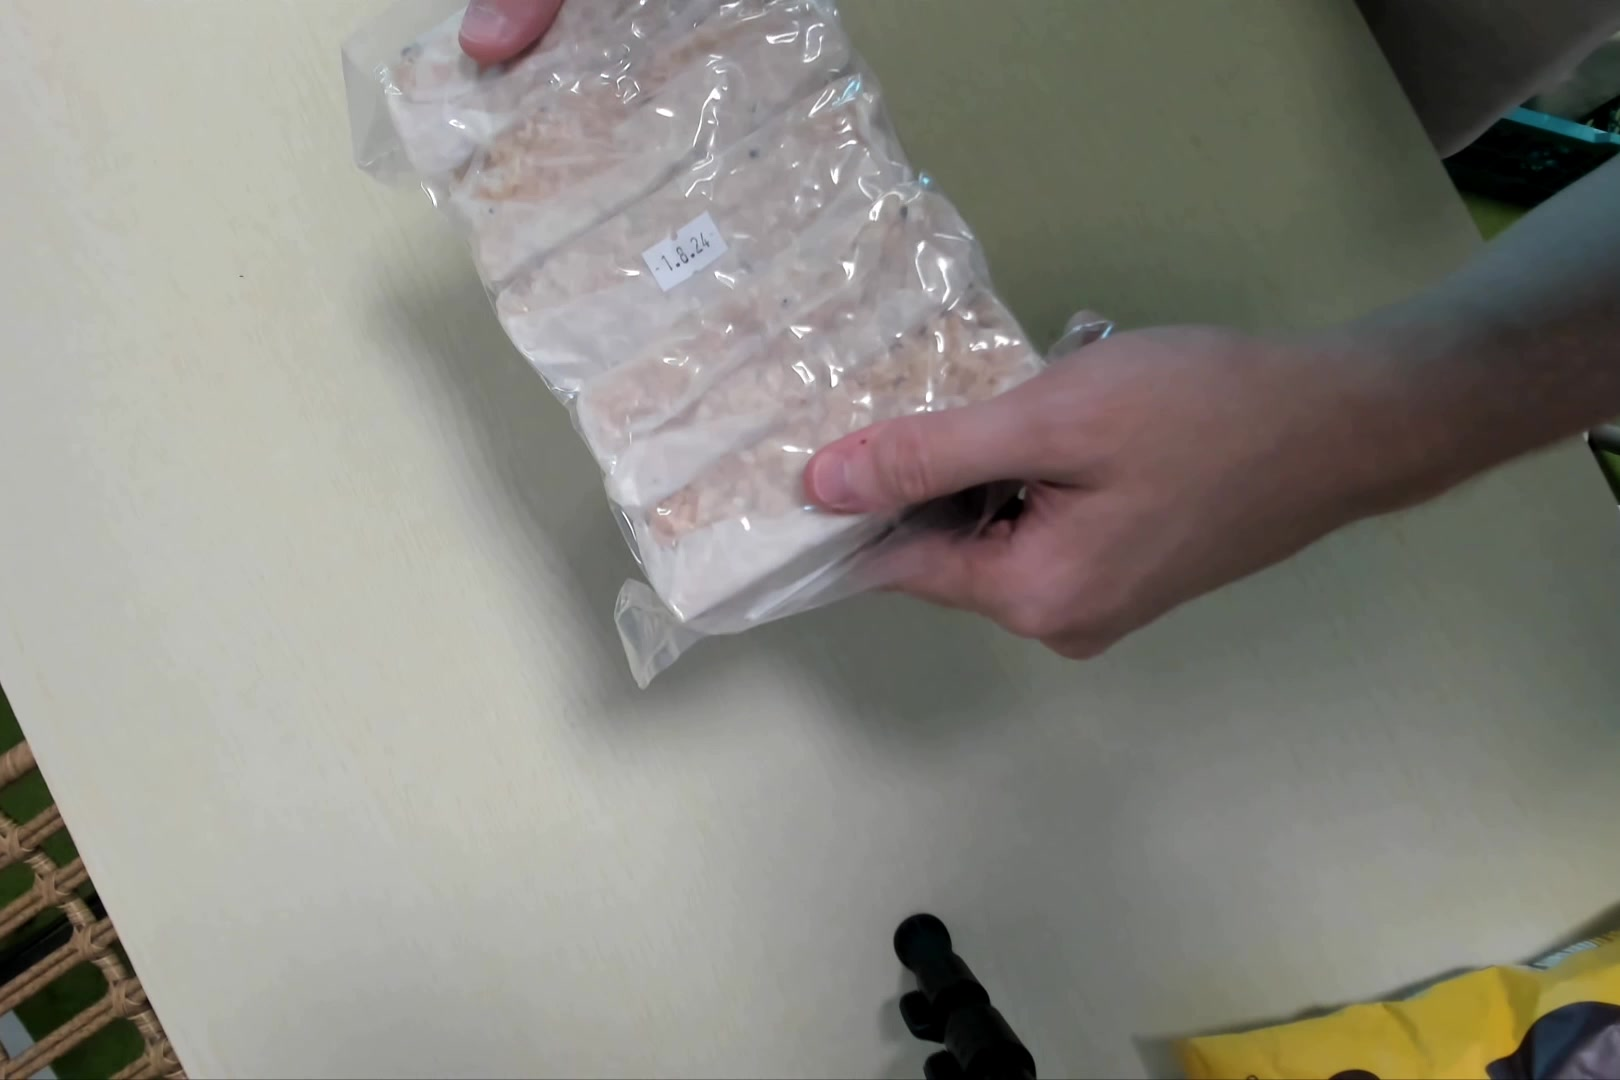PotatoChipsKeropok_100-199g_NonHalal_NonHealthy: (362, 5, 1060, 642)
